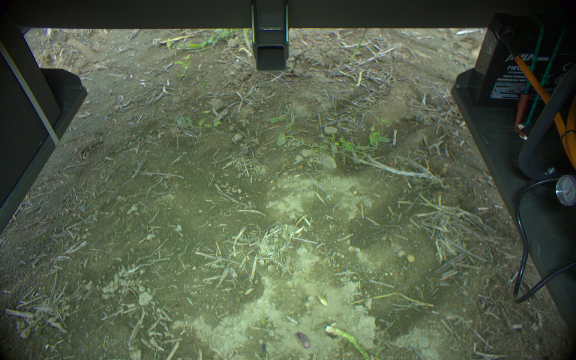aspa: (324, 323, 370, 360)
